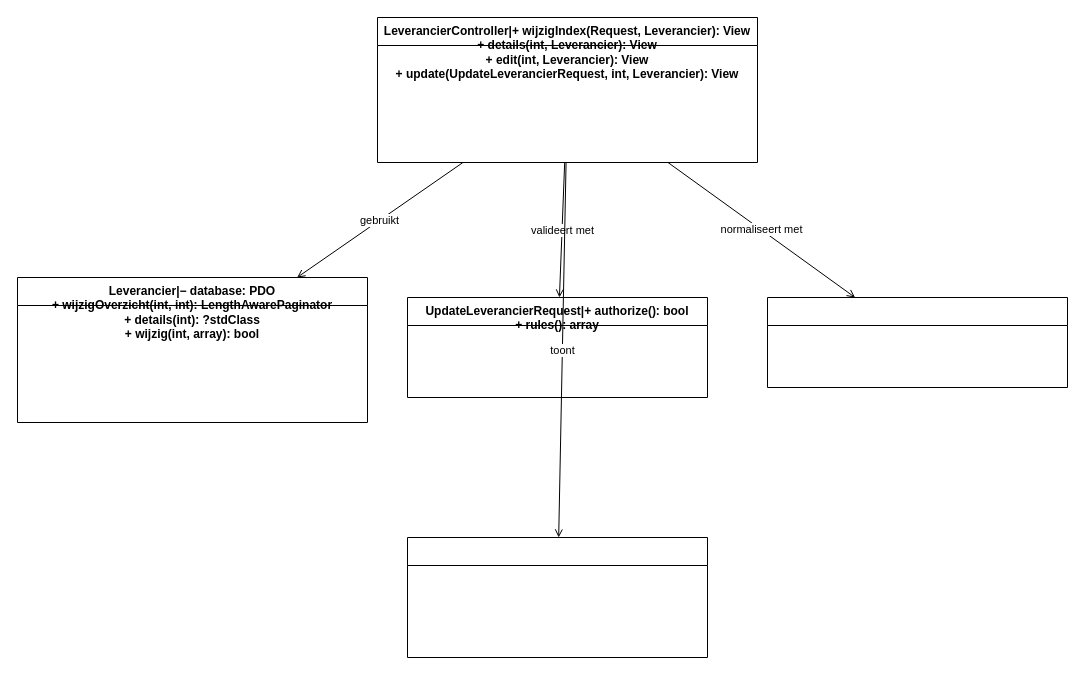
Image size: 1085x675. Some labels were removed from this diagram. The shapes that lost their labels are listed below. From the top down, each one's box as (x1, y1, x2, y2) in pixels, then its label:
(766, 296, 1068, 388): LeverancierGegevens|+ normaliseerPostcode(string): string
(406, 536, 708, 658): Blade views|wijzigen-index.blade.php details.blade.php wijzigen.blade.php
